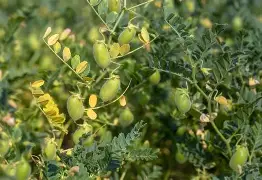crops: (0, 0, 258, 176)
